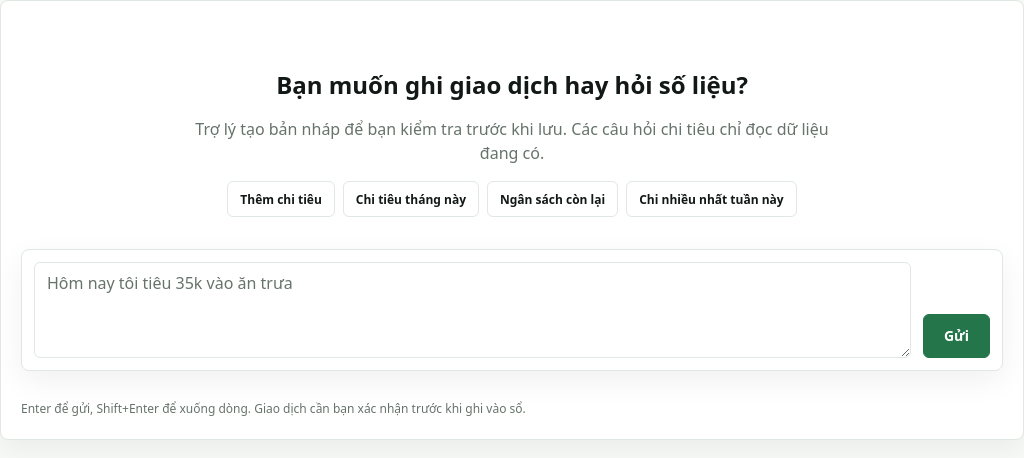
Test: insight chat UI › shows friendly parse clarifications without internal field names
Type "hôm nay mua món lạ 28k" into the text box named "Chat to ledger message" at (472, 310), box [34,262,911,358]
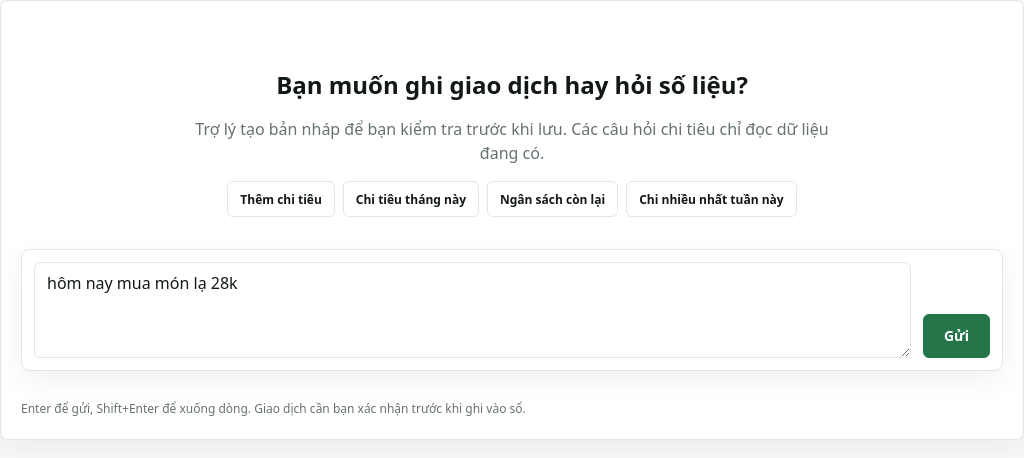
Click the button "Gửi" at (956, 336), box [923,314,990,358]
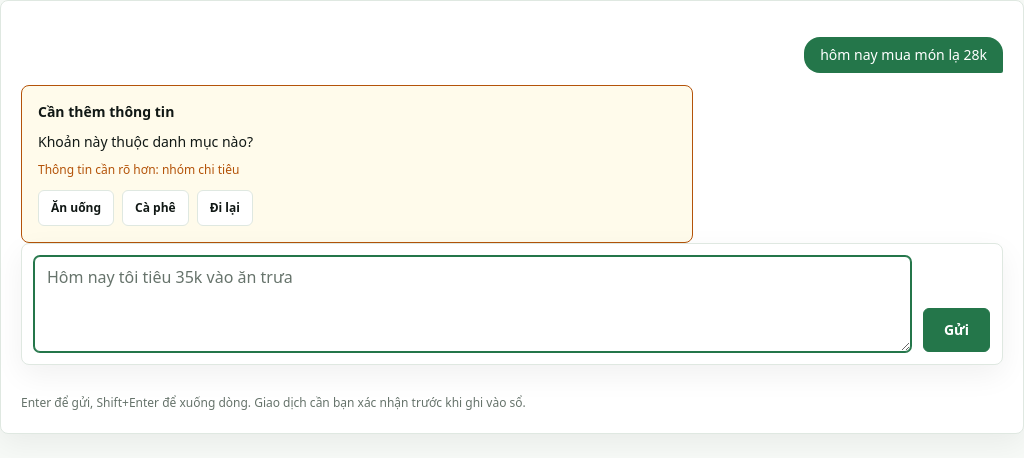
Expected: the text "Khoản này thuộc danh mục nào?" is shown, [38,132,253,151]
Expected: the text "Thông tin cần rõ hơn: nhóm chi tiêu" is shown, [38,161,239,178]
